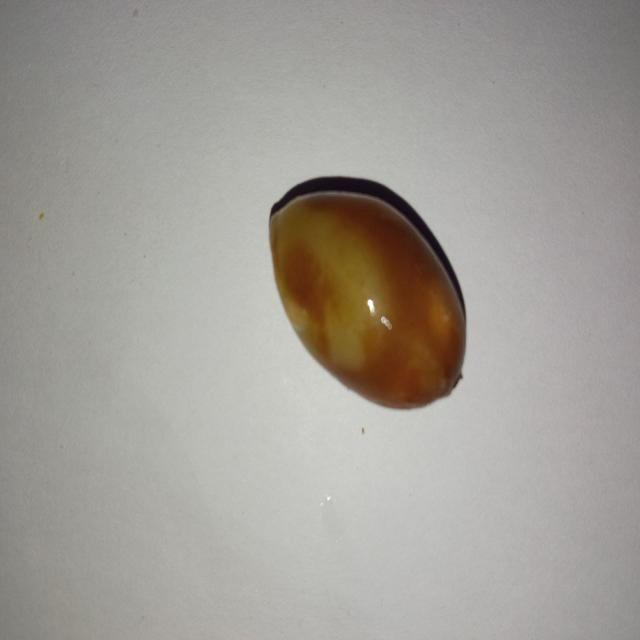rotten_grape: (269, 190, 466, 410)
